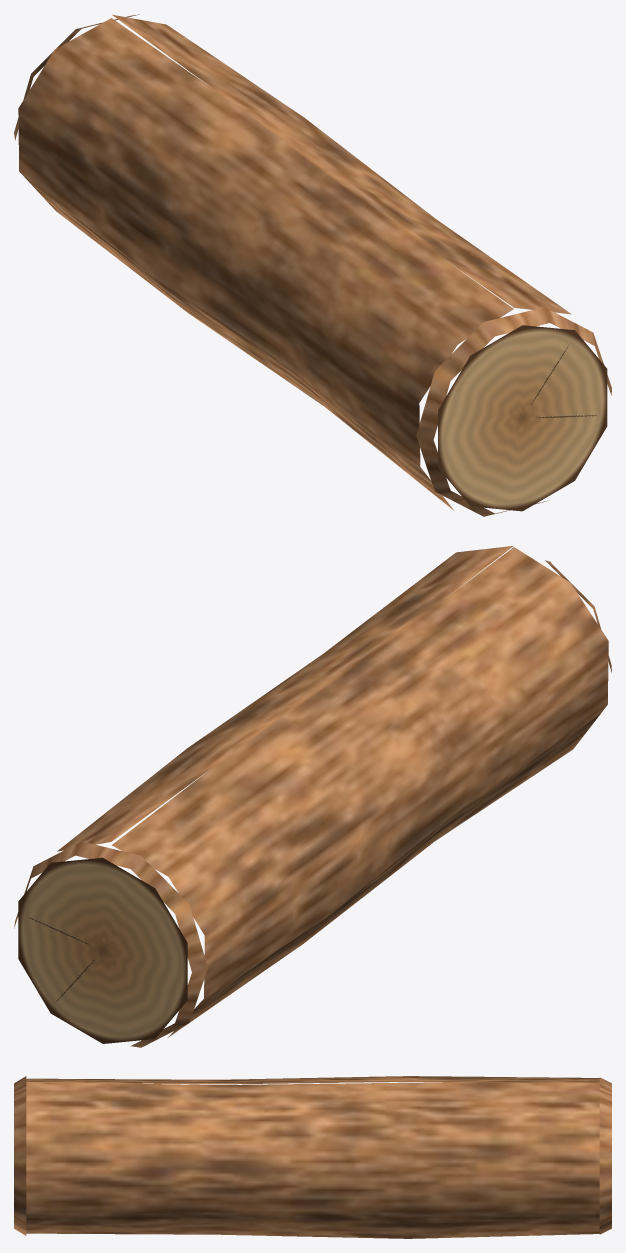
Rendered from wood_rod.glb.
The picture shows the model from 3 angles, top to bottom: view 1: azimuth 30°, elevation 25°; view 2: azimuth 150°, elevation 25°; view 3: azimuth 270°, elevation 25°; orthographic projection. The views are drawn at different scales.
Parts seen in each view (by area): view 1: wood_rod; view 2: wood_rod; view 3: wood_rod.
Part boxes in pixels (x1,y1,x2,y2): wood_rod: (14, 14, 611, 516); wood_rod: (14, 546, 611, 1047); wood_rod: (14, 1076, 611, 1238).
Bounding box in the file's own units: 0.264 × 0.2696 × 0.98.
2 materials, 2 textured.
